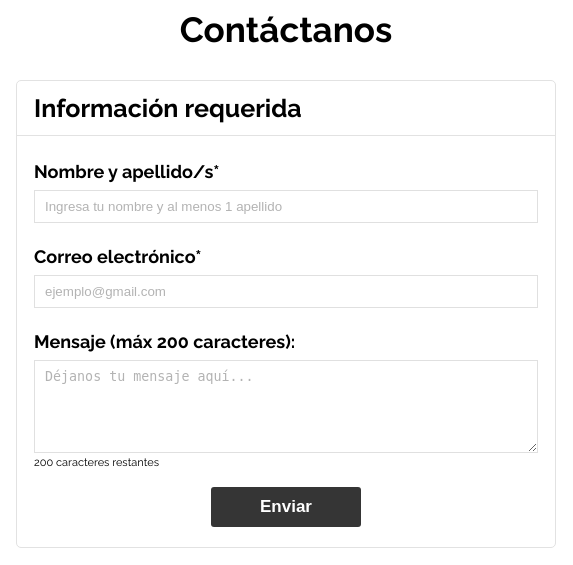
it: Contacto › actualiza el contador de caracteres al escribir
Type "hola nico" into the text box labelled "Mensaje (máx 200 caracteres):" at point(286, 406), box left=34, top=360, right=538, bottom=453
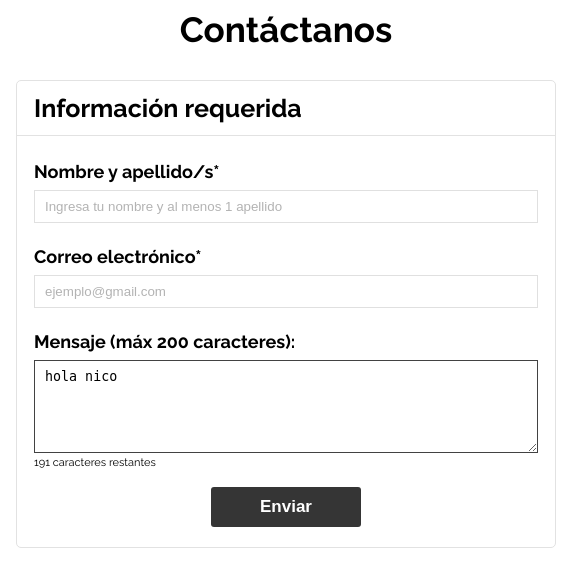
expect the text "191 caracteres restantes" is shown: met, box left=34, top=456, right=156, bottom=469
